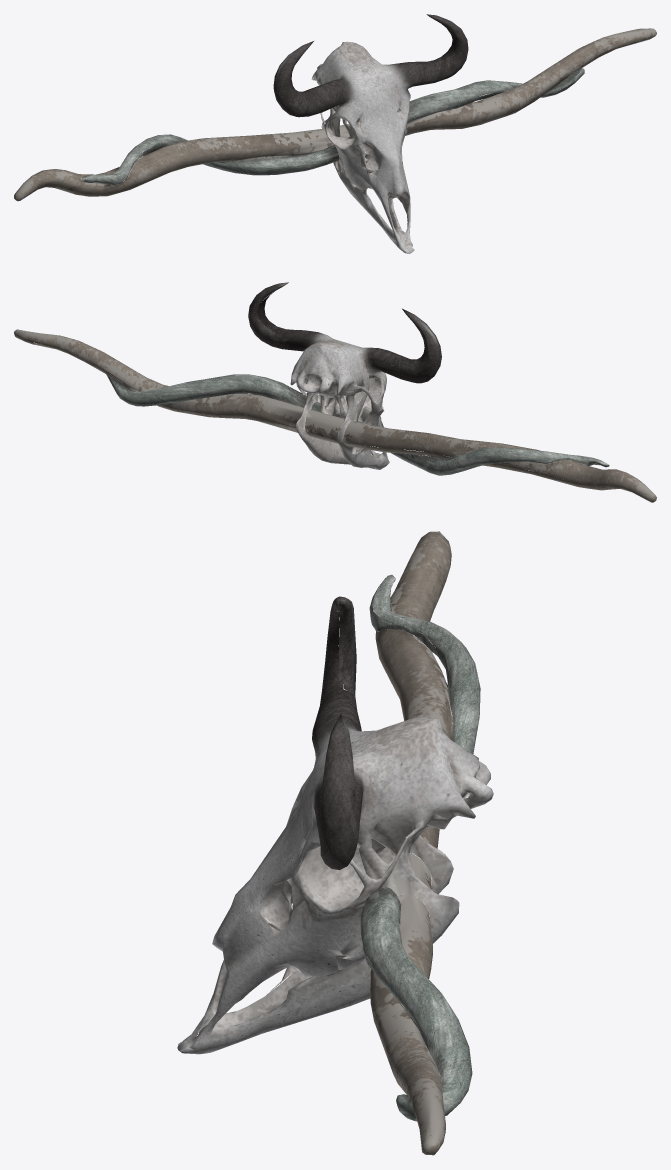
Rendered from topping_1.glb.
3 views of the same model, one above another, from view 1: azimuth 30°, elevation 25°; view 2: azimuth 150°, elevation 25°; view 3: azimuth 270°, elevation 25° (orthographic). The views are drawn at different scales.
Visible parts, largest first — view 1: palka_13; view 2: palka_13; view 3: palka_13.
Part boxes in pixels (x1,y1,x2,y2): palka_13: [14, 14, 656, 253]; palka_13: [14, 282, 656, 502]; palka_13: [177, 531, 493, 1155].
Bounding box in the file's own units: 83.35 × 24.66 × 17.82.
Materials: 3 (3 with a texture image).
